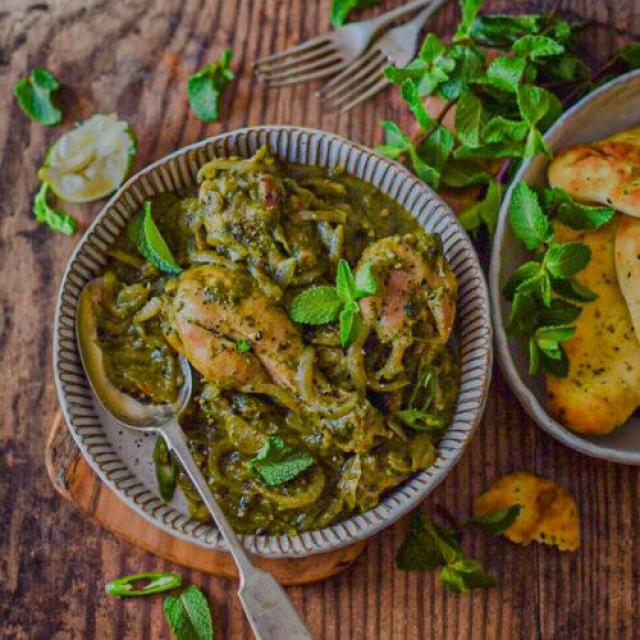chicken: (77, 143, 444, 522)
